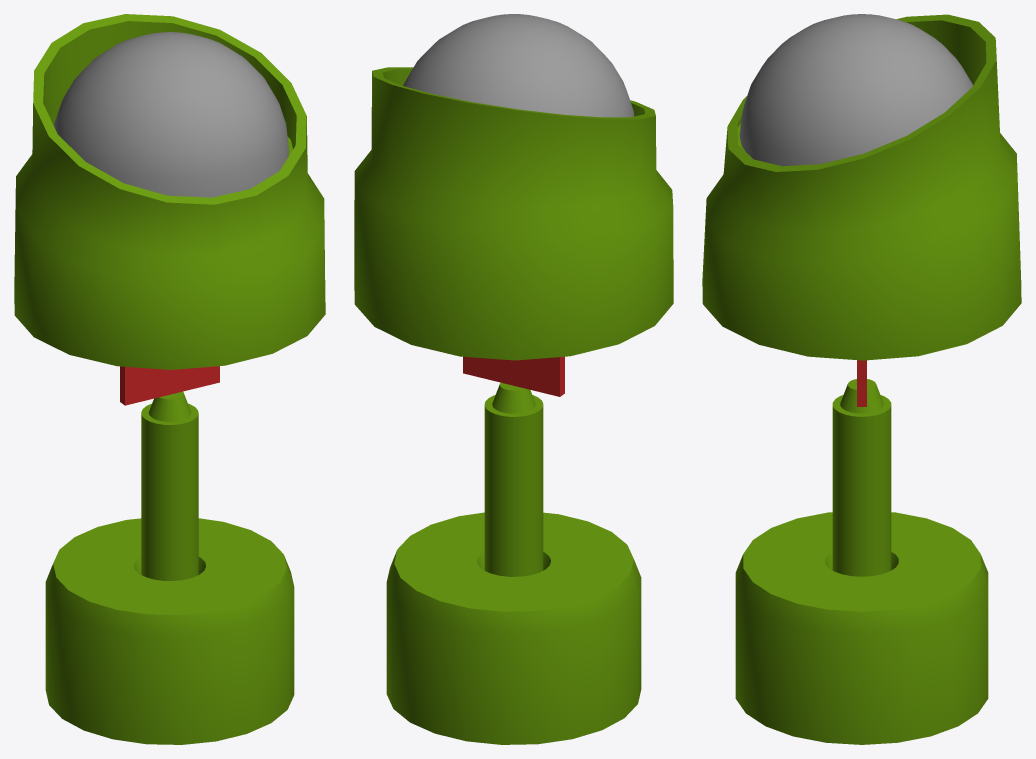
The model's file is Clue Piston.FBX.
The picture shows the model from 3 angles, left to right: view 1: azimuth 30°, elevation 25°; view 2: azimuth 150°, elevation 25°; view 3: azimuth 270°, elevation 25°; orthographic projection. The views are drawn at different scales.
Parts seen in each view (by area): view 1: Cylinder019, Cylinder021, Sphere012, Box052; view 2: Cylinder019, Cylinder021, Sphere012, Box052; view 3: Cylinder019, Cylinder021, Sphere012.
Boxes of the visible parts, x1,y1,x2,y2 form: Cylinder019: (14, 14, 325, 369); Cylinder021: (45, 391, 294, 744); Sphere012: (53, 32, 288, 197); Box052: (120, 366, 219, 405); Cylinder019: (354, 67, 673, 360); Cylinder021: (386, 382, 641, 744); Sphere012: (403, 14, 634, 117); Box052: (463, 356, 564, 396); Cylinder019: (702, 14, 1021, 360); Cylinder021: (735, 379, 988, 744); Sphere012: (739, 14, 972, 166).
Size of the model in its own units: 1.28 by 2.91 by 1.27.
